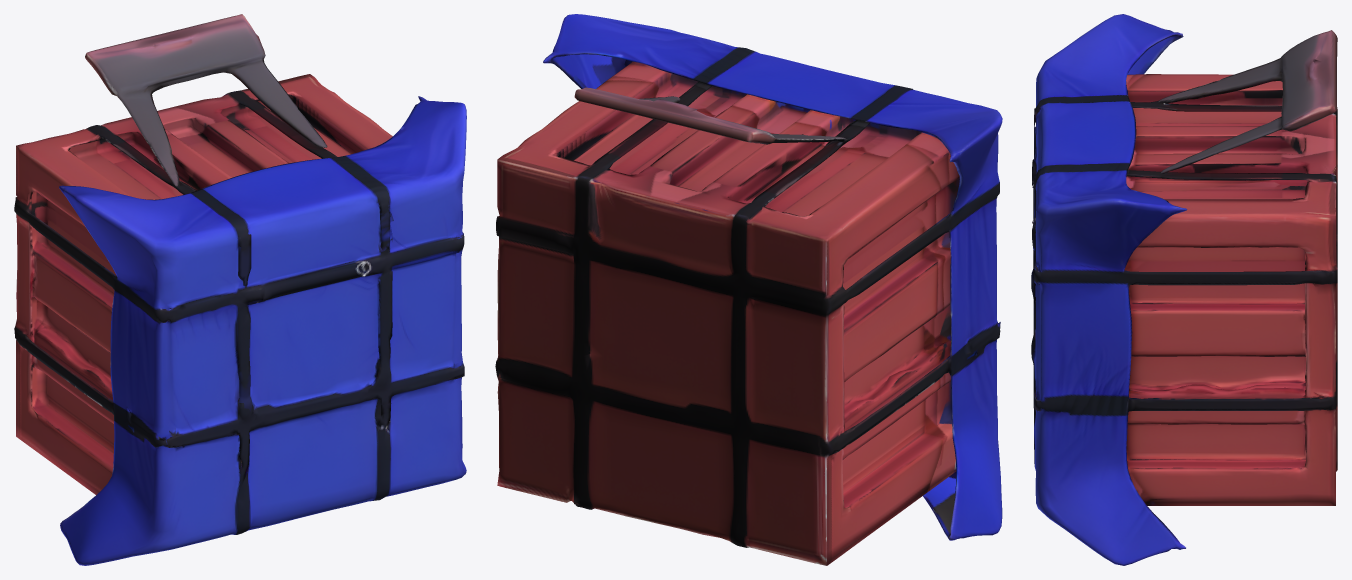
File: SupplyBox.obj
3 views of the same model, side by side, from view 1: azimuth 30°, elevation 25°; view 2: azimuth 150°, elevation 25°; view 3: azimuth 270°, elevation 25° (orthographic). The views are drawn at different scales.
Parts seen in each view (by area): view 1: model; view 2: model; view 3: model.
Part boxes in pixels (x1=…): model: x1=14, y1=14, x2=466, y2=565; model: x1=495, y1=14, x2=1002, y2=565; model: x1=1031, y1=14, x2=1337, y2=565.
Bounding box in the file's own units: 1.7 × 1.71 × 1.17.
Materials: 1 (1 with a texture image).
